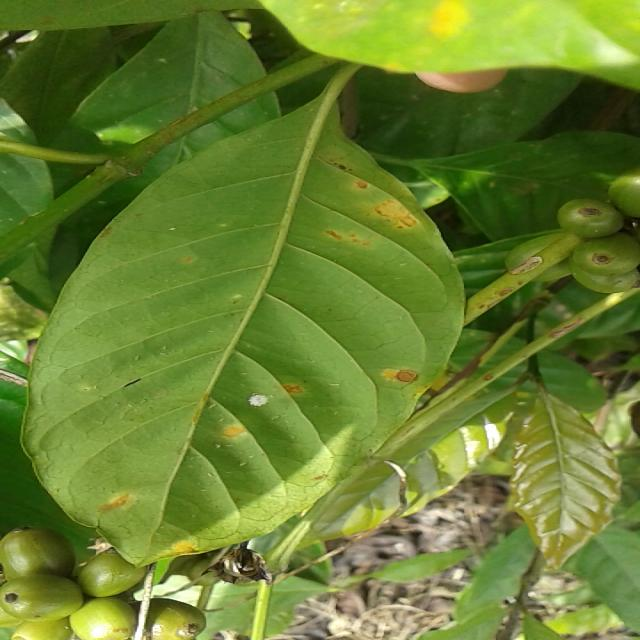Enfermedad-Roya: (20, 80, 467, 570)
